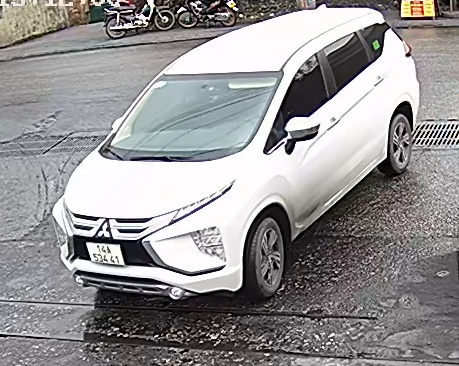vehicle plate: (81, 242, 127, 270)
